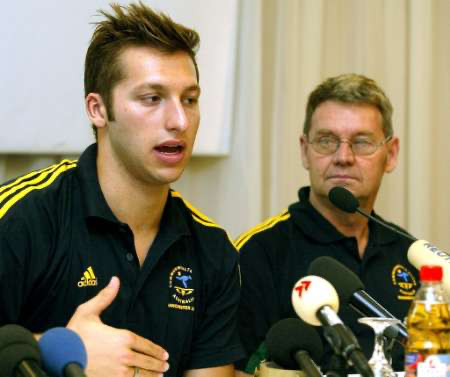Face: (109, 53, 209, 187), (294, 102, 404, 209)
